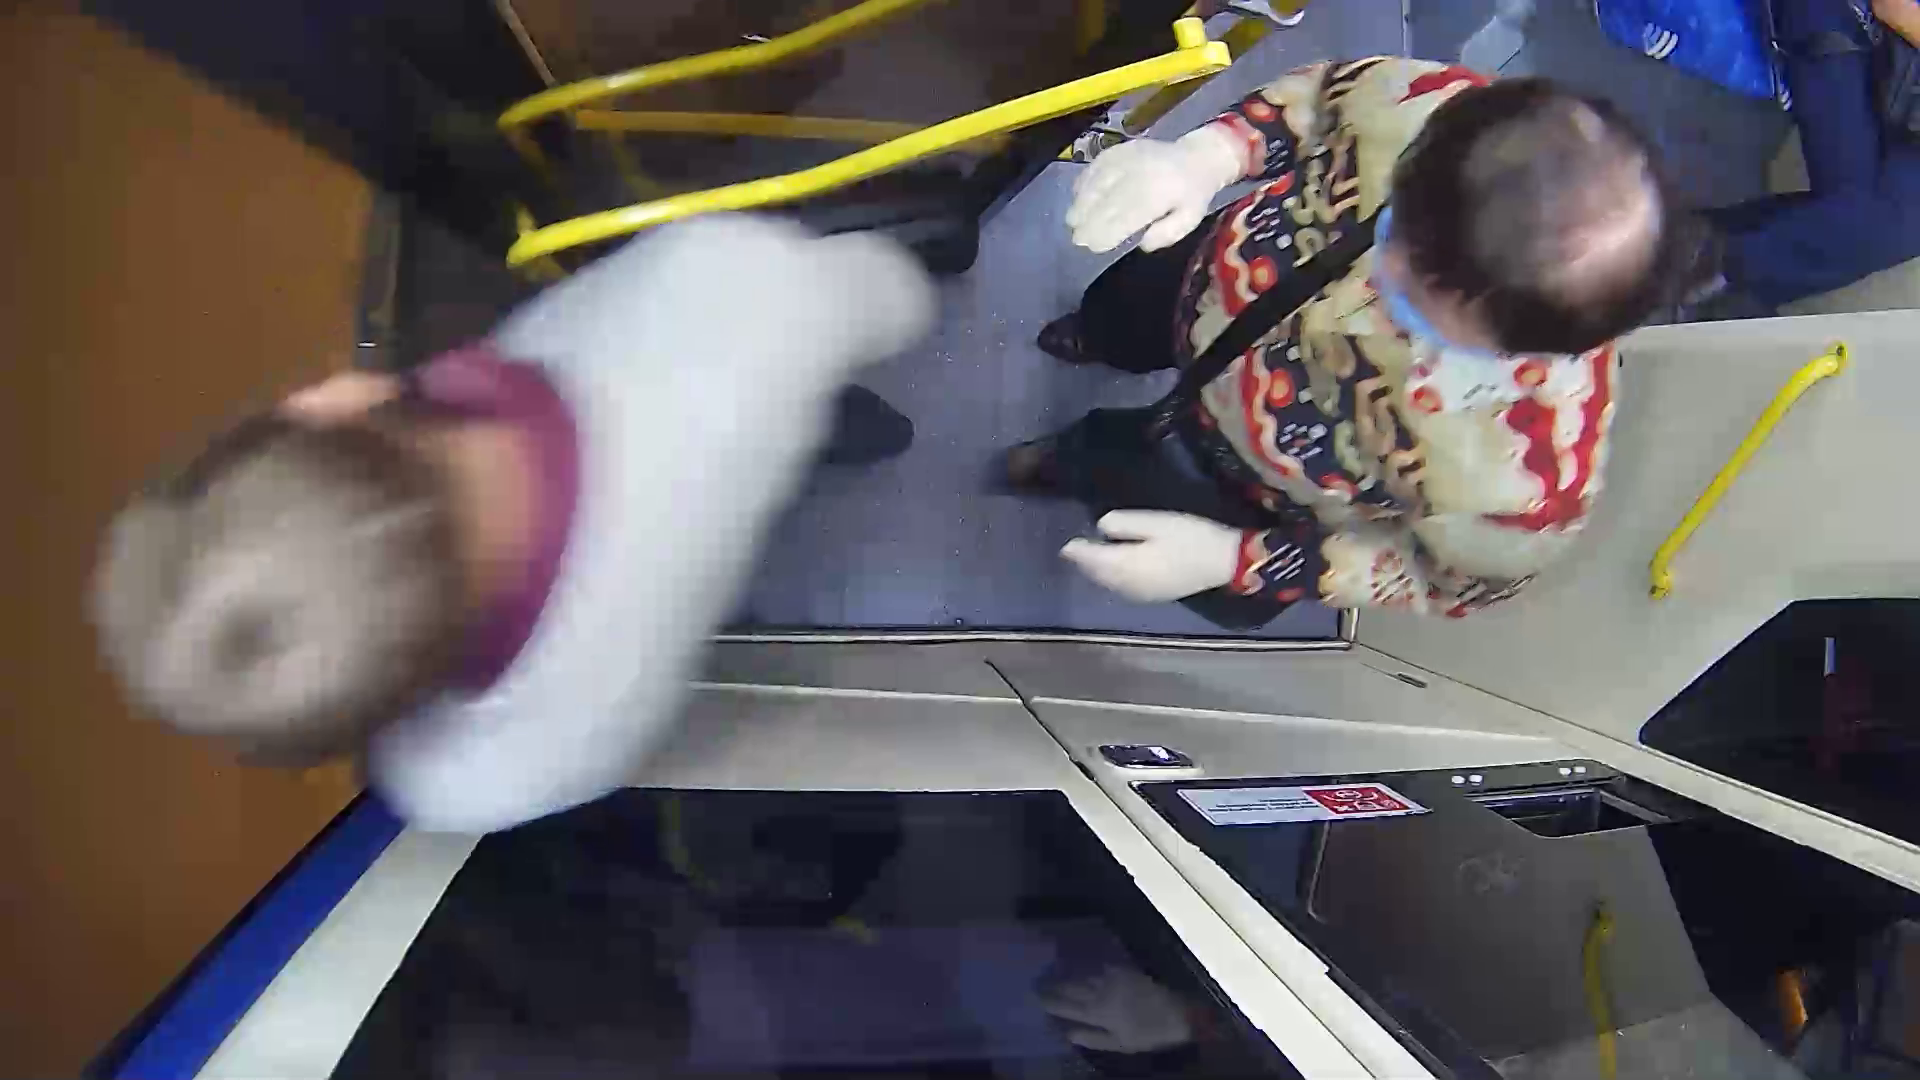person: (143, 170, 983, 832), (1013, 54, 1804, 619)
